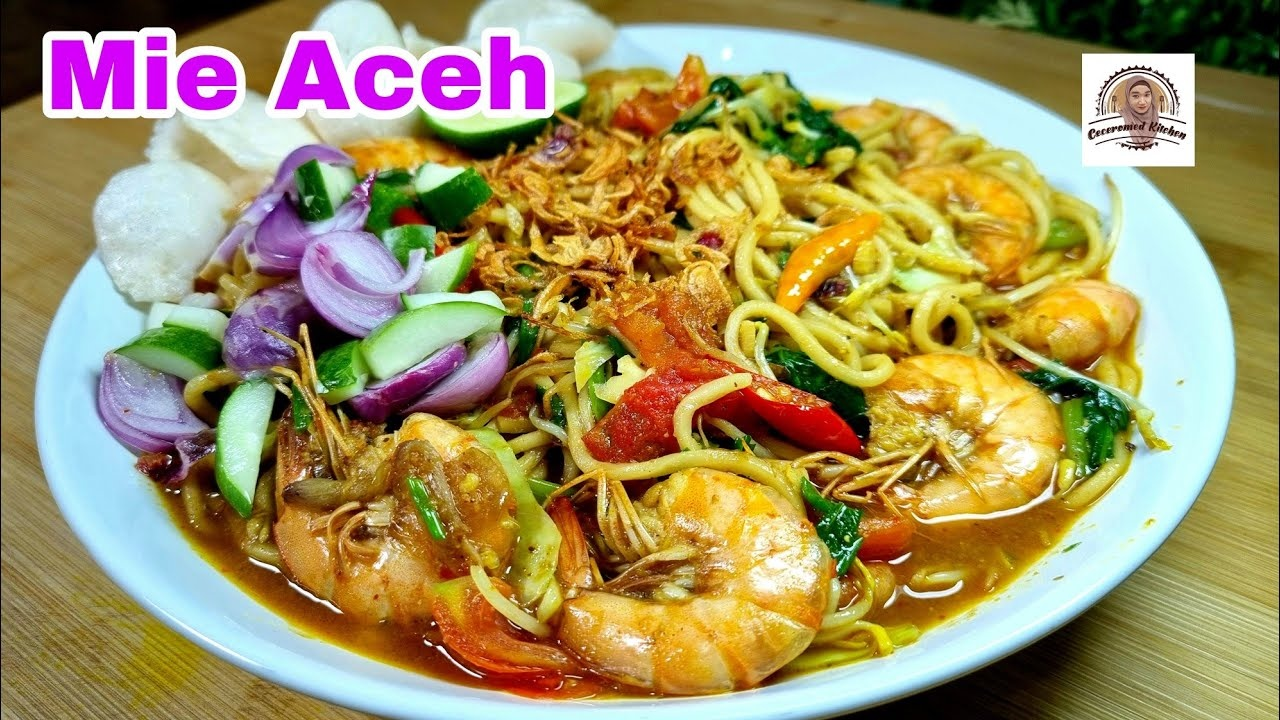mie_aceh: (324, 91, 1133, 683)
